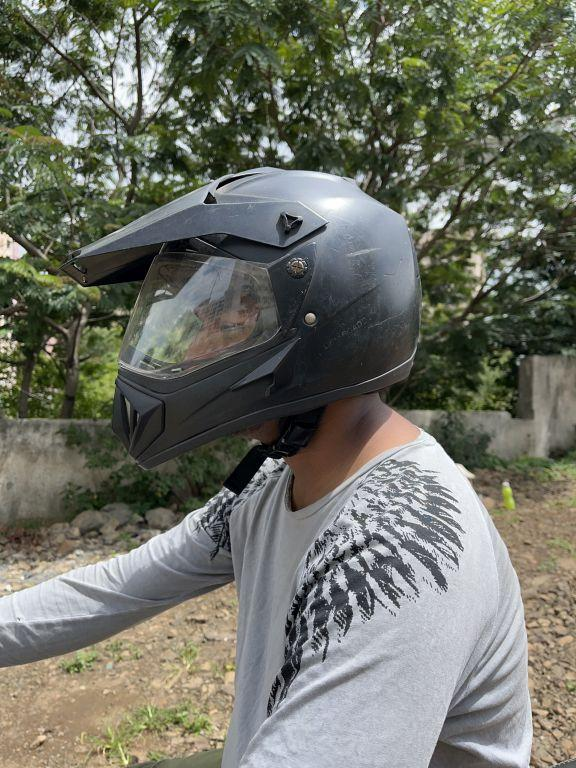helmet: (39, 109, 438, 491)
